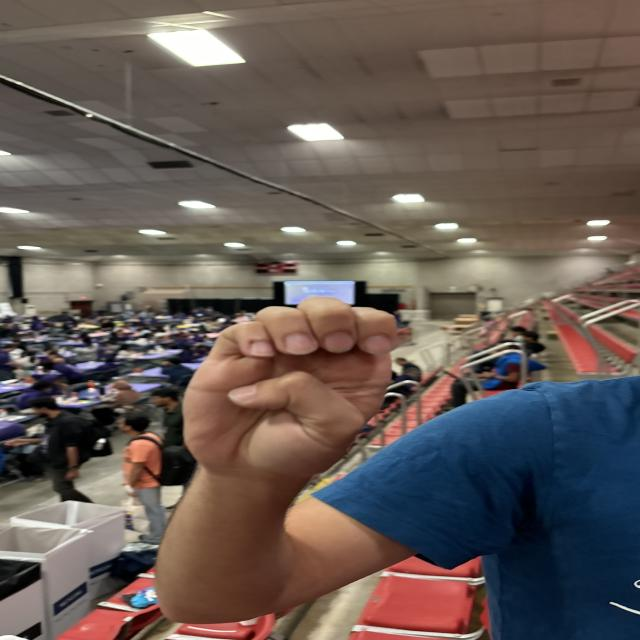E: (167, 292, 429, 486)
